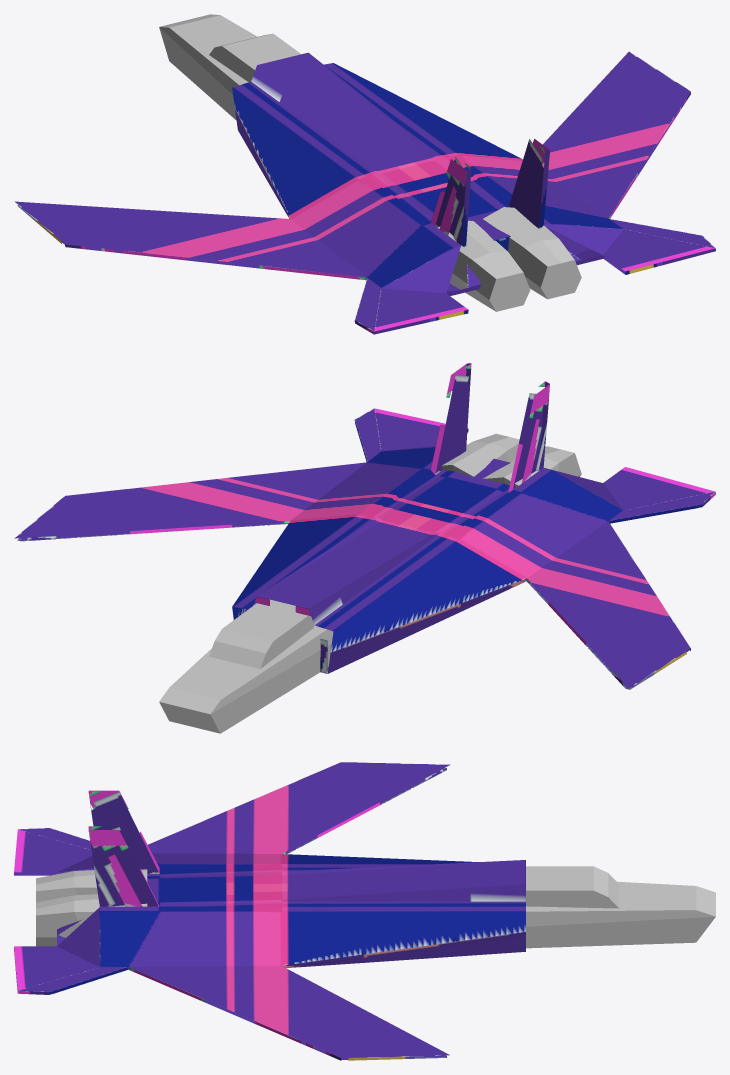
File: Mig27.obj
3 renders of one model, top to bottom at view 1: azimuth 30°, elevation 25°; view 2: azimuth 150°, elevation 25°; view 3: azimuth 270°, elevation 25°, orthographic. The views are drawn at different scales.
Parts seen in each view (by area): view 1: cuboid; view 2: cuboid; view 3: cuboid.
Part boxes in pixels (x1=…): cuboid: x1=15, y1=14, x2=715, y2=334; cuboid: x1=14, y1=363, x2=715, y2=733; cuboid: x1=14, y1=762, x2=715, y2=1060.
Size of the model in its own units: 6.1 by 1.17 by 6.11.
